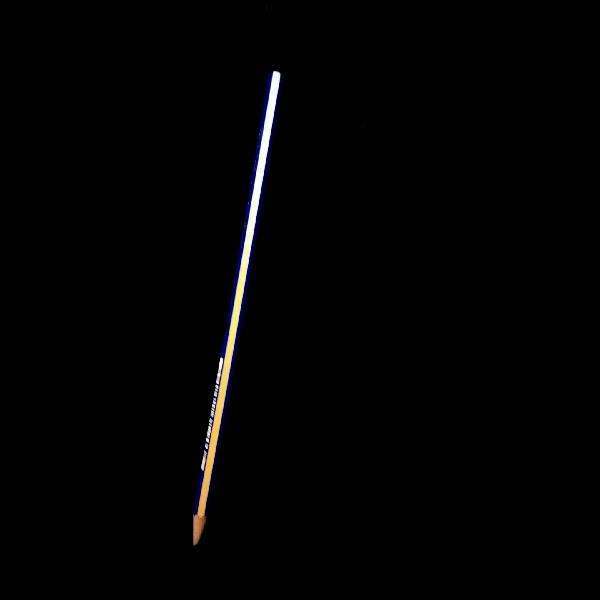pencil: (194, 71, 280, 545)
